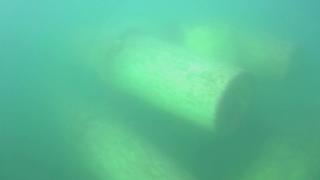pipe: (58, 12, 258, 140), (46, 98, 195, 180), (181, 20, 309, 89)
